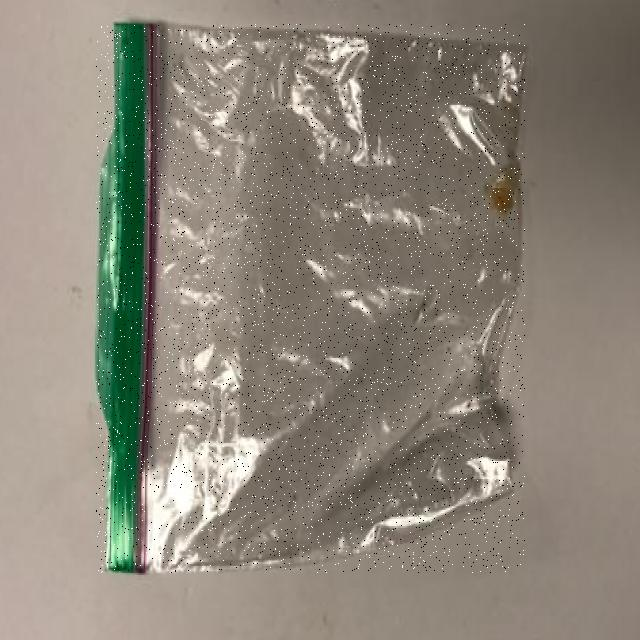plastic: (97, 25, 525, 573)
